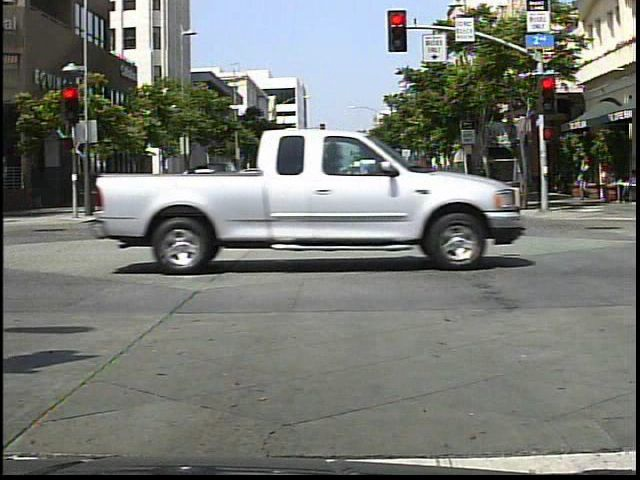person: (376, 163, 409, 237), (424, 160, 455, 224), (171, 166, 204, 225), (576, 157, 597, 205)
